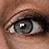eye: (14, 20, 33, 34)
